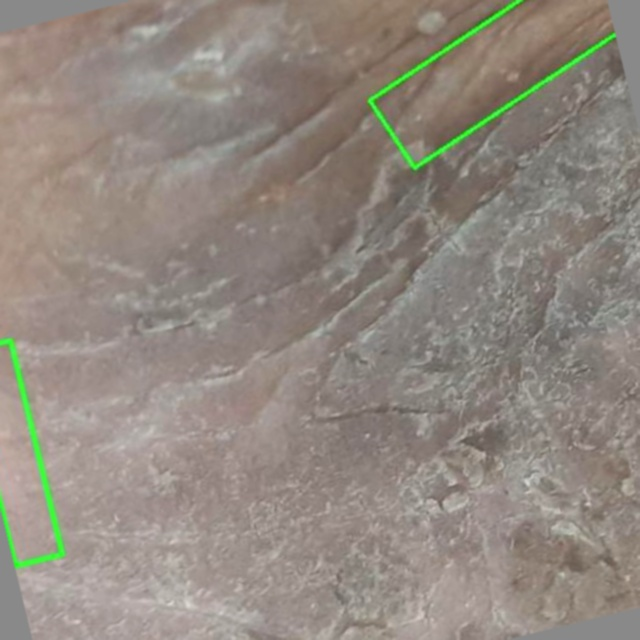Eczema: (370, 0, 616, 168), (0, 340, 63, 565)
